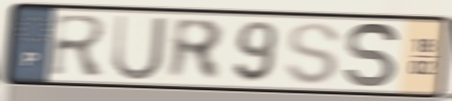9: (230, 18, 280, 86)
R: (166, 15, 227, 84), (48, 12, 110, 79)
S: (343, 20, 402, 91), (283, 20, 344, 88)
U: (110, 12, 169, 83)
